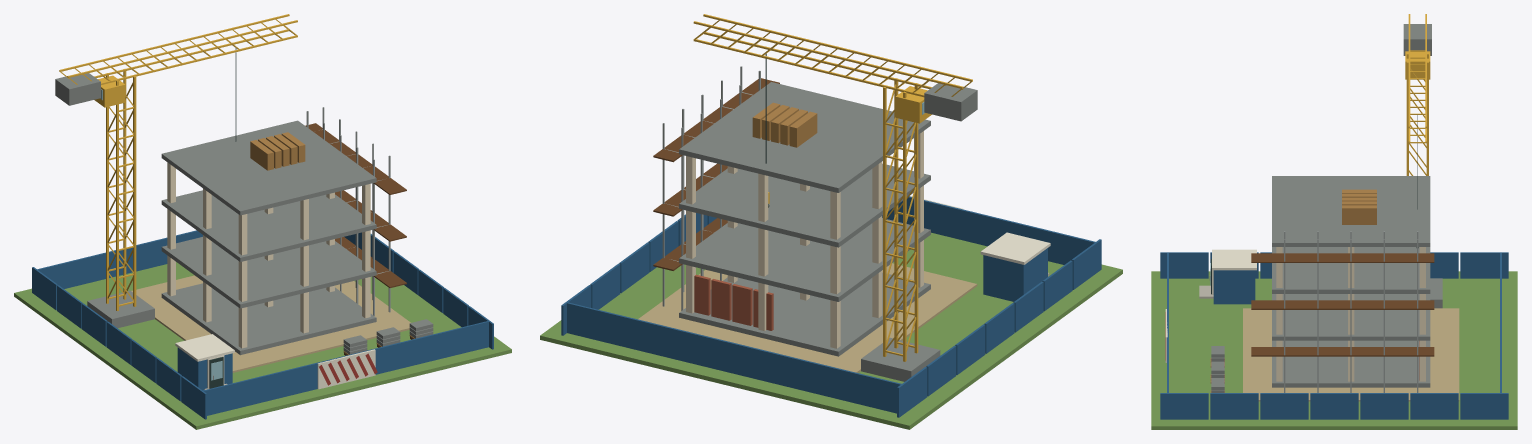
File: 07_ConstructionSite.obj
3 views of the same model, side by side, from view 1: azimuth 30°, elevation 25°; view 2: azimuth 150°, elevation 25°; view 3: azimuth 270°, elevation 25° (orthographic). The views are drawn at different scales.
Parts seen in each view (by area): view 1: 07_ConstructionSite; view 2: 07_ConstructionSite; view 3: 07_ConstructionSite.
Part boxes in pixels (x1,y1,x2,y2): 07_ConstructionSite: (14, 14, 511, 429); 07_ConstructionSite: (540, 14, 1122, 429); 07_ConstructionSite: (1151, 14, 1517, 429).
Size of the model in its own units: 22.1 by 17.29 by 22.
1 material, 1 textured.
